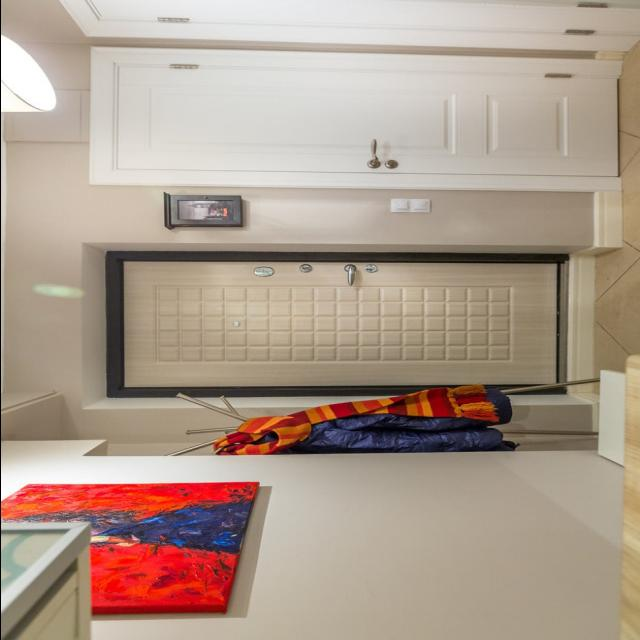close: (101, 61, 628, 186), (120, 253, 572, 393)
